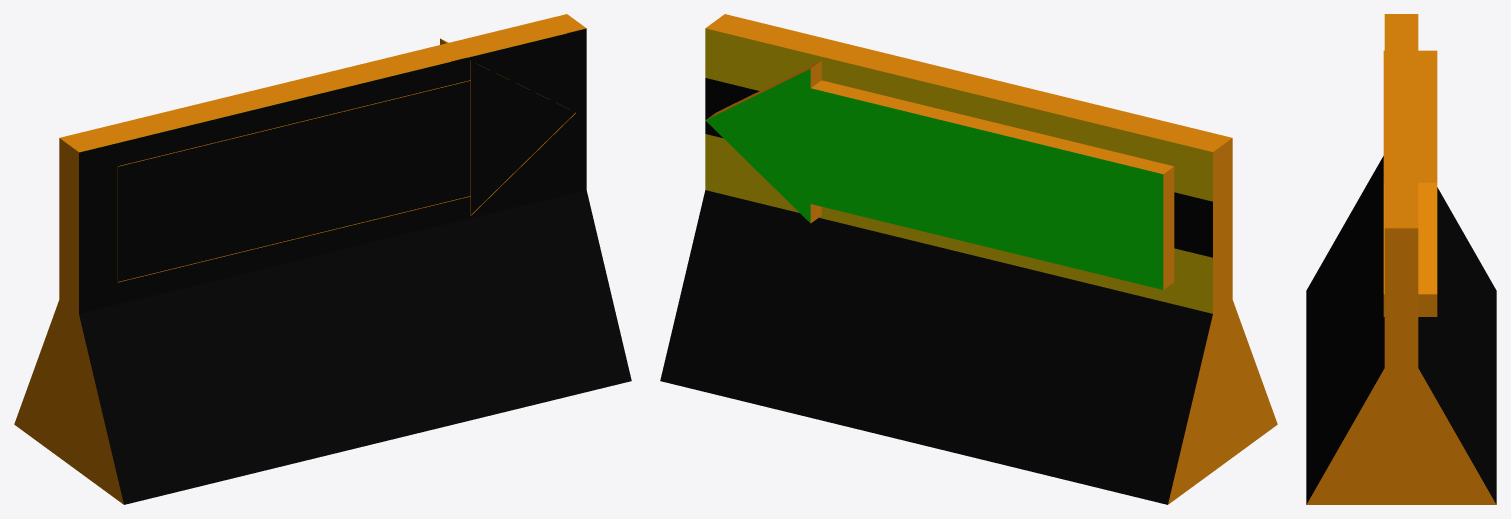
File: D_barrier.fbx
The picture shows the model from 3 angles, left to right: view 1: azimuth 30°, elevation 25°; view 2: azimuth 150°, elevation 25°; view 3: azimuth 270°, elevation 25°; orthographic projection. The views are drawn at different scales.
Visible parts, largest first — view 1: Cube; view 2: Cube; view 3: Cube.
Boxes of the visible parts, left/top/right/bottom form: Cube: left=14, top=14, right=631, bottom=504; Cube: left=660, top=14, right=1277, bottom=504; Cube: left=1306, top=14, right=1496, bottom=504.
Size of the model in its own units: 918 by 552 by 344.
